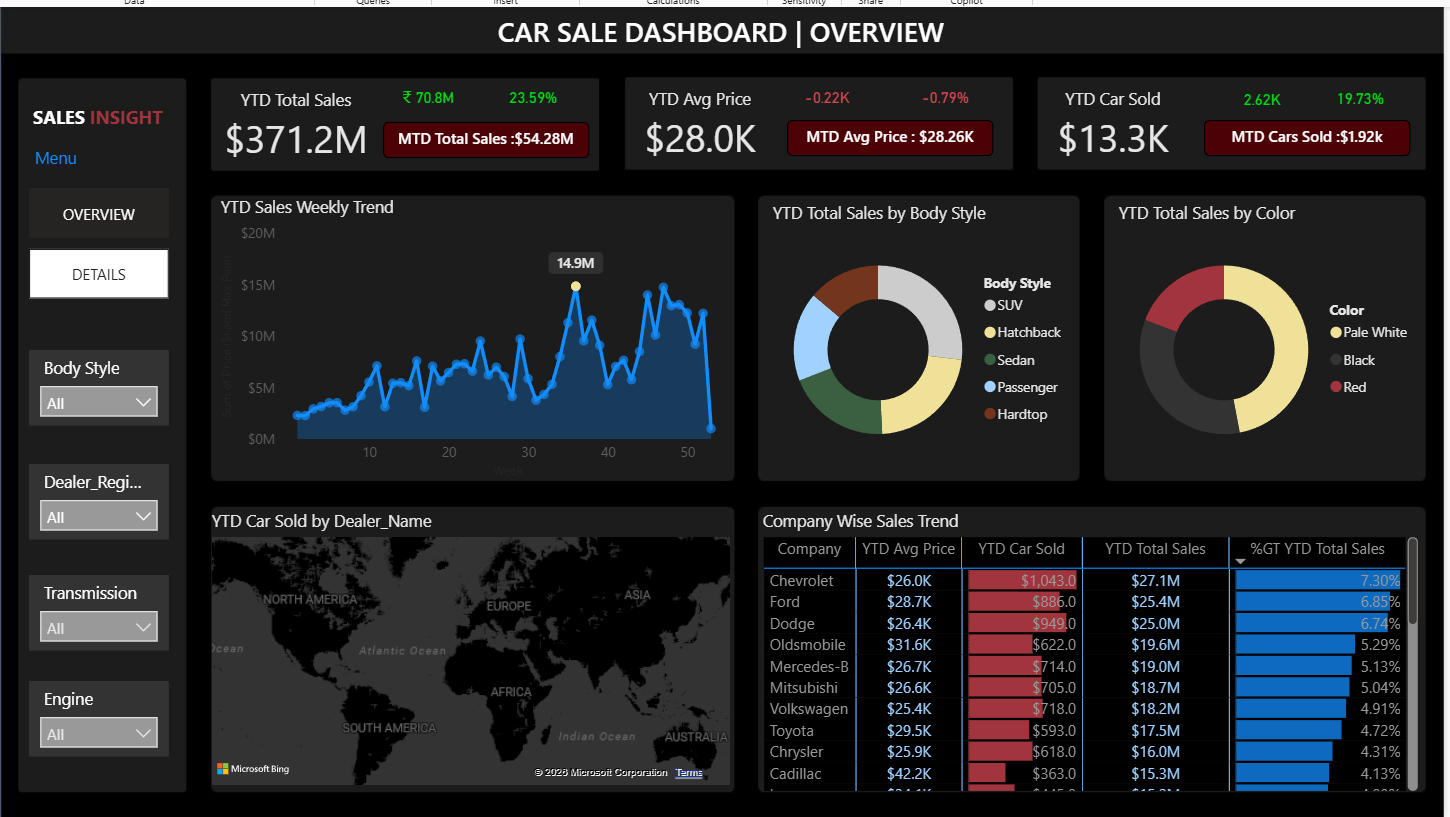

The dashboard page shown, as its layout file describes it:
{"tool":"powerbi","page":{"name":"OVERVIEW","canvas":[1280,720],"ordinal":0},"visuals":[{"type":"card","title":"YTD Total Sales","fields":{"Values":["car_data.YTD Total Sales"]},"box":[173.8,71.8,177.3,70],"z":0},{"type":"card","fields":{"Values":["car_data.Sales Difference"]},"box":[304.1,60.3,150.7,42.6],"z":1000},{"type":"card","fields":{"Values":["car_data.YoY Sales Growth"]},"box":[397.2,60.3,150.7,42.6],"z":2000},{"type":"card","fields":{"Values":["car_data.MTD kpi"]},"box":[339.6,102,182.7,31.9],"z":3000},{"type":"card","title":"YTD Avg Price","fields":{"Values":["car_data.YTD Avg Price"]},"box":[532,70.9,177.3,70],"z":4000},{"type":"card","fields":{"Values":["car_data.Avg Price Difference"]},"box":[686.3,60.3,94,42.6],"z":5000},{"type":"card","fields":{"Values":["car_data.YoY Avg Price Growth"]},"box":[790.9,60.3,94,42.6],"z":6000},{"type":"card","fields":{"Values":["car_data.MTD Avg kpi"]},"box":[697.8,100.2,182.7,31.9],"z":7000},{"type":"card","title":"YTD Car Sold","fields":{"Values":["car_data.YTD Car Sold"]},"box":[898.2,70.9,177.3,70],"z":8000},{"type":"card","fields":{"Values":["car_data.Cars Sold Diff"]},"box":[1072,62.1,94,42.6],"z":9000},{"type":"card","fields":{"Values":["car_data.YoY Car Slold Growth"]},"box":[1158.9,61.2,94,42.6],"z":10000},{"type":"card","fields":{"Values":["car_data.MTD Cars Sold kpi"]},"box":[1067.6,100.2,182.7,31.9],"z":11000},{"type":"areaChart","title":"YTD Sales Weekly Trend","fields":{"Category":["Calender Table.Week"],"Y":["Sum(car_data.Price ($))","car_data.Max Point"]},"box":[190.6,166.7,462,255.4],"z":12000},{"type":"donutChart","fields":{"Category":["car_data.Body Style"],"Y":["car_data.YTD Total Sales"]},"box":[680.1,172,274.9,243.8],"z":13000},{"type":"donutChart","fields":{"Y":["car_data.YTD Total Sales"],"Category":["car_data.Color"]},"box":[986.9,172,274.9,243.8],"z":14000},{"type":"map","fields":{"Size":["car_data.YTD Car Sold"],"Series":["car_data.Dealer_Name"]},"box":[182.7,445.1,470,250],"z":15000},{"type":"tableEx","title":"Company Wise Sales Trend","fields":{"Values":["car_data.Company","car_data.YTD Avg Price","car_data.YTD Car Sold","car_data.YTD Total Sales1","car_data.YTD Total Sales"]},"box":[671.2,445.1,590.5,255.4],"z":16000},{"type":"textbox","box":[357.3,0,563.9,44.3],"z":17000},{"type":"slicer","fields":{"Values":["car_data.Body Style"]},"box":[25.7,304.1,124.1,66.5],"z":18000},{"type":"slicer","fields":{"Values":["car_data.Dealer_Region"]},"box":[25.7,405.2,124.1,66.5],"z":19000},{"type":"slicer","fields":{"Values":["car_data.Transmission"]},"box":[25.7,503.6,124.1,66.5],"z":20000},{"type":"slicer","fields":{"Values":["car_data.Engine"]},"box":[25.7,597.6,124.1,66.5],"z":21000},{"type":"textbox","box":[0,81.6,173.8,34.6],"z":22000},{"type":"pageNavigator","box":[25.7,160.5,124.1,98.4],"z":23000},{"type":"textbox","box":[25.7,117.9,49.7,36.4],"z":24000}]}

Visuals, with their boxes on the page's 1280x720 design canvas (x1, y1, x2, y2). These are canvas units, not pixel positions in the 1450x817 screenshot, which may show the page scaled, cropped or inside an application window:
"YTD Total Sales" card: {"x1": 174, "y1": 72, "x2": 351, "y2": 142}
card - car_data.Sales Difference: {"x1": 304, "y1": 60, "x2": 455, "y2": 103}
card - car_data.YoY Sales Growth: {"x1": 397, "y1": 60, "x2": 548, "y2": 103}
card - car_data.MTD kpi: {"x1": 340, "y1": 102, "x2": 522, "y2": 134}
"YTD Avg Price" card: {"x1": 532, "y1": 71, "x2": 709, "y2": 141}
card - car_data.Avg Price Difference: {"x1": 686, "y1": 60, "x2": 780, "y2": 103}
card - car_data.YoY Avg Price Growth: {"x1": 791, "y1": 60, "x2": 885, "y2": 103}
card - car_data.MTD Avg kpi: {"x1": 698, "y1": 100, "x2": 880, "y2": 132}
"YTD Car Sold" card: {"x1": 898, "y1": 71, "x2": 1076, "y2": 141}
card - car_data.Cars Sold Diff: {"x1": 1072, "y1": 62, "x2": 1166, "y2": 105}
card - car_data.YoY Car Slold Growth: {"x1": 1159, "y1": 61, "x2": 1253, "y2": 104}
card - car_data.MTD Cars Sold kpi: {"x1": 1068, "y1": 100, "x2": 1250, "y2": 132}
"YTD Sales Weekly Trend" areaChart: {"x1": 191, "y1": 167, "x2": 653, "y2": 422}
donutChart - car_data.Body Style x car_data.YTD Total Sales: {"x1": 680, "y1": 172, "x2": 955, "y2": 416}
donutChart - car_data.YTD Total Sales x car_data.Color: {"x1": 987, "y1": 172, "x2": 1262, "y2": 416}
map - car_data.YTD Car Sold x car_data.Dealer_Name: {"x1": 183, "y1": 445, "x2": 653, "y2": 695}
"Company Wise Sales Trend" tableEx: {"x1": 671, "y1": 445, "x2": 1262, "y2": 700}
textbox: {"x1": 357, "y1": 0, "x2": 921, "y2": 44}
slicer - car_data.Body Style: {"x1": 26, "y1": 304, "x2": 150, "y2": 371}
slicer - car_data.Dealer_Region: {"x1": 26, "y1": 405, "x2": 150, "y2": 472}
slicer - car_data.Transmission: {"x1": 26, "y1": 504, "x2": 150, "y2": 570}
slicer - car_data.Engine: {"x1": 26, "y1": 598, "x2": 150, "y2": 664}
textbox: {"x1": 0, "y1": 82, "x2": 174, "y2": 116}
pageNavigator: {"x1": 26, "y1": 160, "x2": 150, "y2": 259}
textbox: {"x1": 26, "y1": 118, "x2": 75, "y2": 154}
